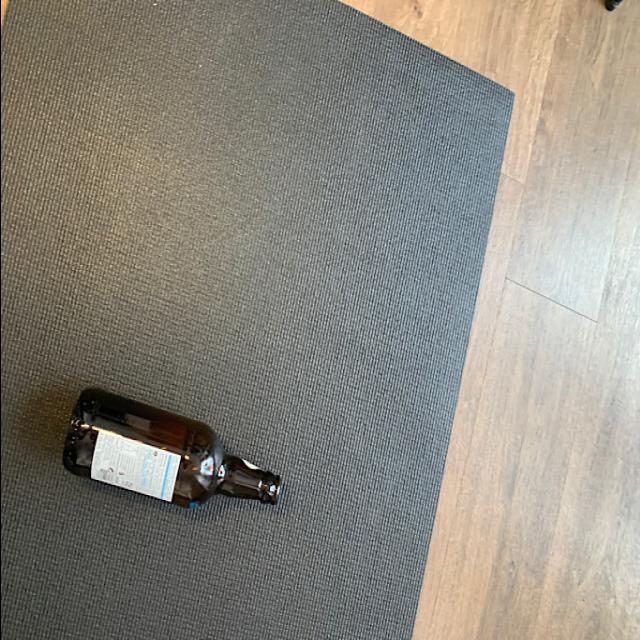litter: (57, 378, 282, 514)
